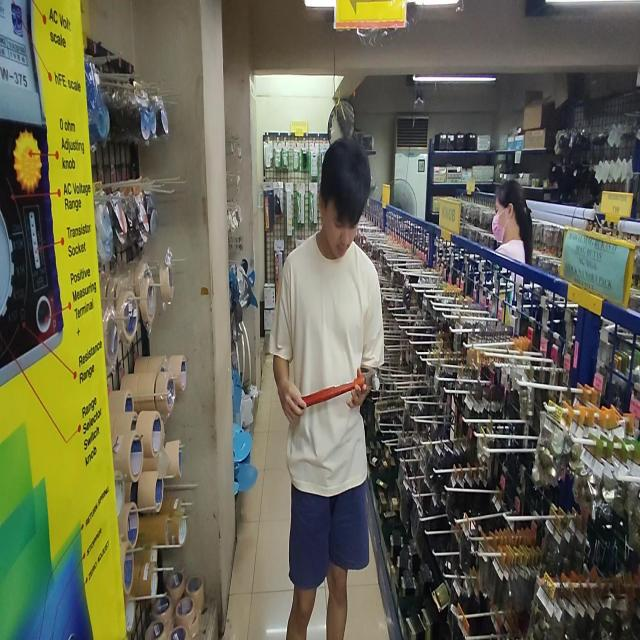hammer: (300, 367, 380, 409)
